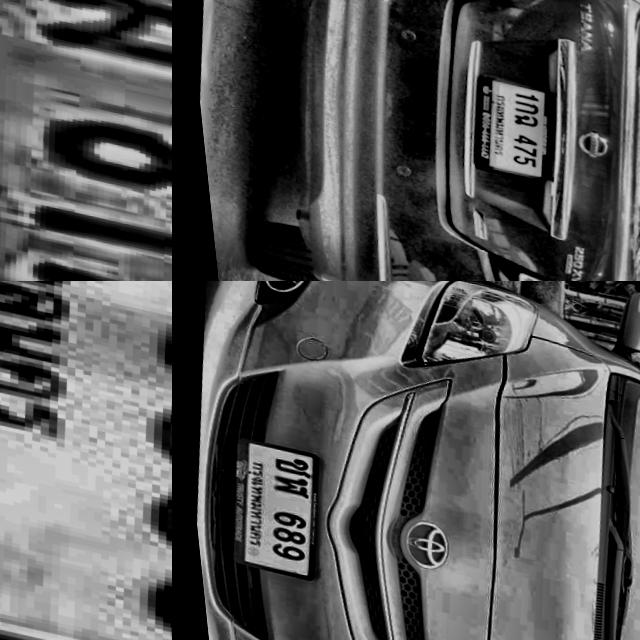license-plate: (0, 281, 172, 640), (0, 0, 172, 281), (203, 430, 329, 582), (456, 64, 568, 191)
